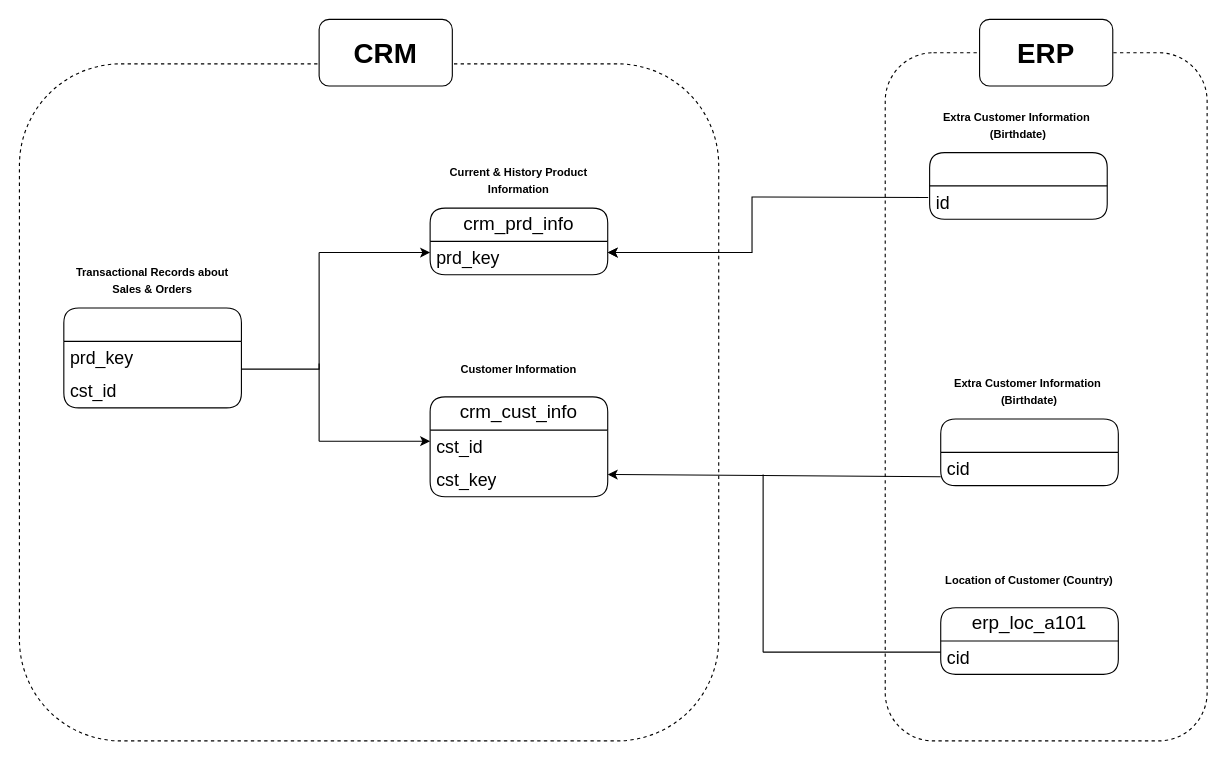
This 1227x760 diagram has some shape labels left out. The shapes that lost their labels are listed below. From the top down, each one's box as (x1, y1, x2, y2) in pixels, then its label:
(929, 152, 1107, 219): erp_px_cat_g1v2
(63, 307, 241, 408): crm_sales_details
(940, 418, 1118, 486): erp_cust_az12
